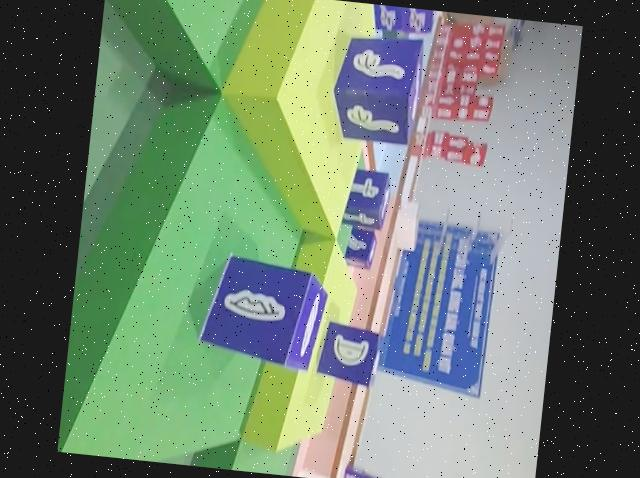R2 Real Blue: (195, 254, 331, 375), (325, 27, 426, 146), (312, 320, 382, 389), (339, 167, 392, 231), (341, 226, 377, 273)
